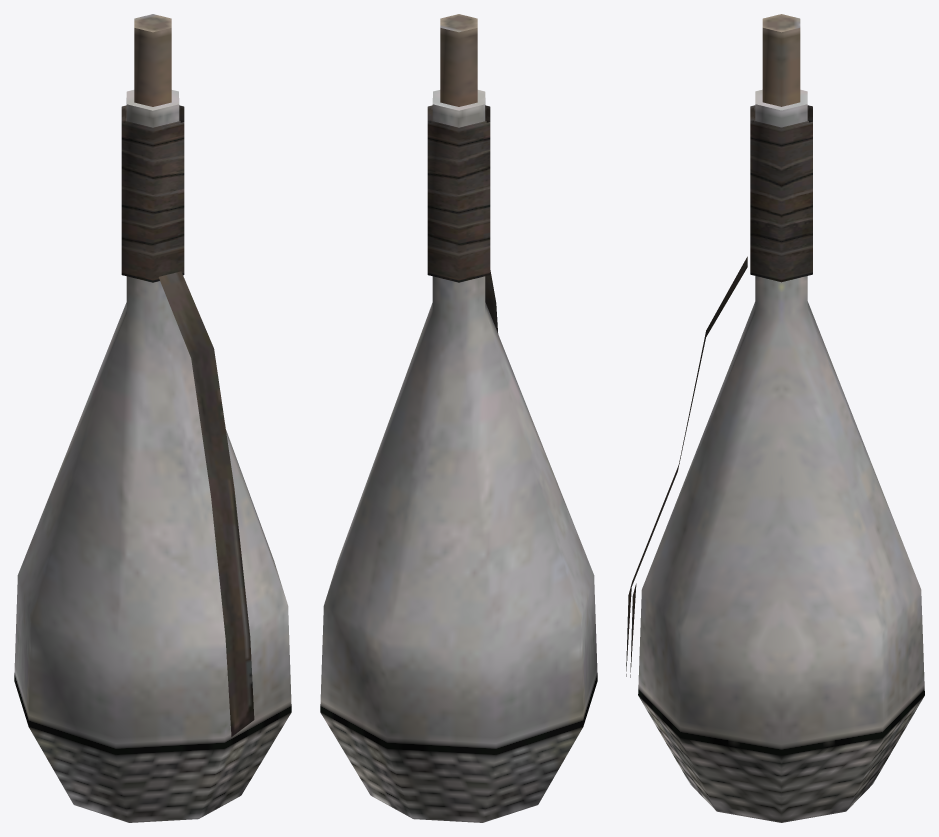
Rendered from eqp_comp_drink_alcoholic.fbx.
3 views of the same model, side by side, from view 1: azimuth 30°, elevation 25°; view 2: azimuth 150°, elevation 25°; view 3: azimuth 270°, elevation 25° (orthographic).
Visible parts, largest first — view 1: mesh_node; view 2: mesh_node; view 3: mesh_node.
Part boxes in pixels (left/top/right/bottom): mesh_node: left=14, top=14, right=291, bottom=822; mesh_node: left=320, top=14, right=597, bottom=822; mesh_node: left=626, top=14, right=924, bottom=822.
Size of the model in its own units: 0.1178 by 0.3449 by 0.1228.
